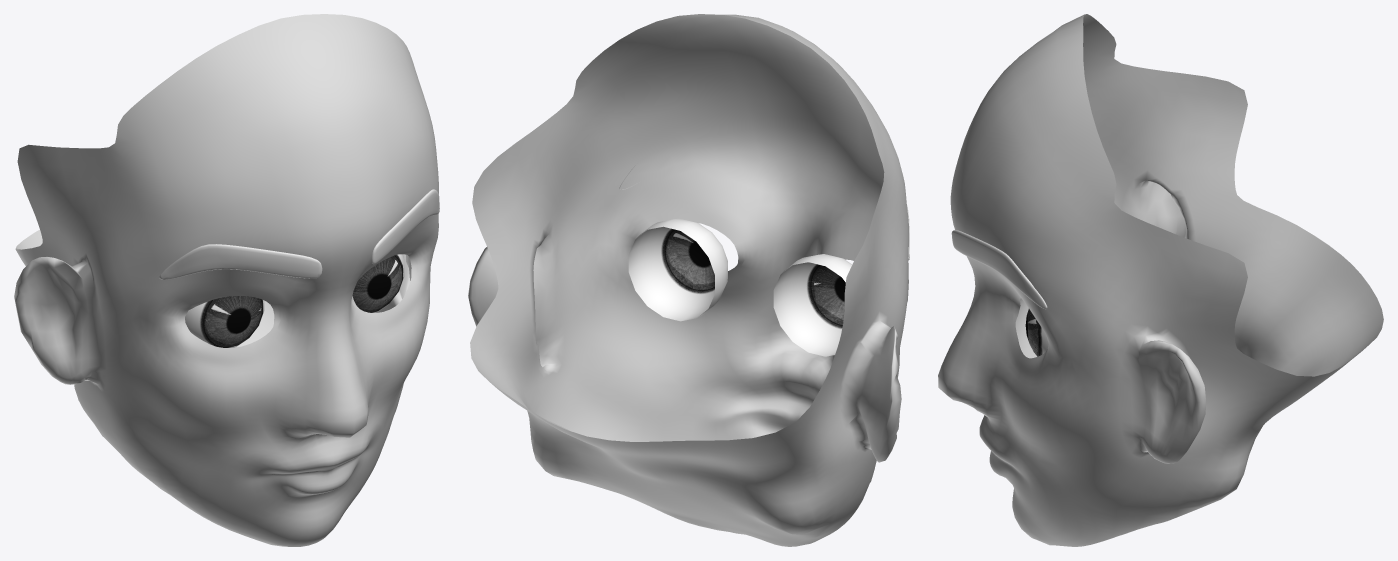
The model's file is male_head_blendshapes.fbx.
3 renders of one model, left to right at view 1: azimuth 30°, elevation 25°; view 2: azimuth 150°, elevation 25°; view 3: azimuth 270°, elevation 25°, orthographic. The views are drawn at different scales.
Visible parts, largest first — view 1: male_face_ur, eyeball_right_ur, eyeball_left_ur; view 2: male_face_ur, eyeball_left_ur, eyeball_right_ur; view 3: male_face_ur, eyeball_left_ur.
Boxes of the visible parts, bbox=[...] form: male_face_ur: bbox=[14, 14, 439, 546]; eyeball_right_ur: bbox=[185, 296, 264, 347]; eyeball_left_ur: bbox=[352, 254, 404, 312]; male_face_ur: bbox=[468, 14, 909, 546]; eyeball_left_ur: bbox=[628, 218, 727, 321]; eyeball_right_ur: bbox=[773, 254, 852, 356]; male_face_ur: bbox=[938, 14, 1383, 546]; eyeball_left_ur: bbox=[1025, 309, 1048, 356].
Bounding box in the file's own units: 68.97 × 80.97 × 65.07.
